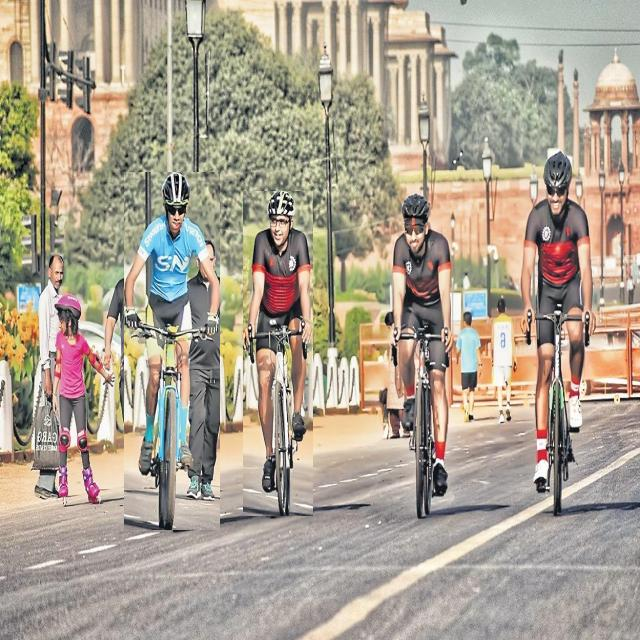bicycle: (124, 172, 220, 530), (521, 151, 595, 514), (243, 191, 312, 516), (391, 194, 452, 516)
